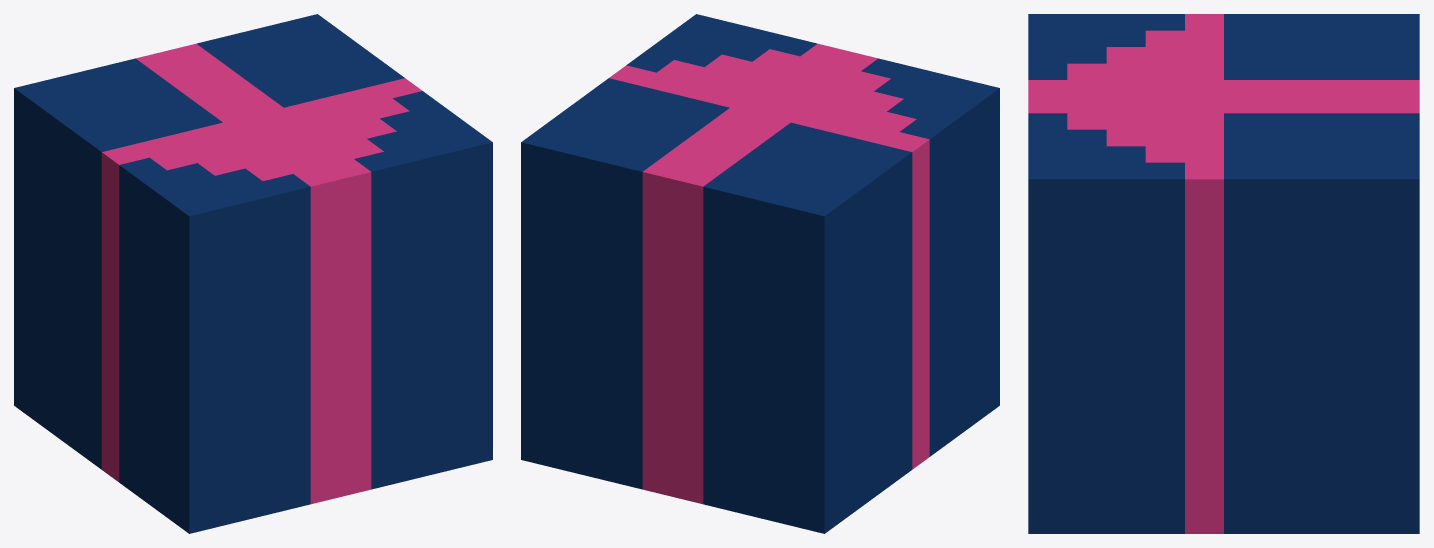
Rendered from miner.glb.
The picture shows the model from 3 angles, left to right: view 1: azimuth 30°, elevation 25°; view 2: azimuth 150°, elevation 25°; view 3: azimuth 270°, elevation 25°; orthographic projection. The views are drawn at different scales.
Visible parts, largest first — view 1: Untitled.001; view 2: Untitled.001; view 3: Untitled.001.
Boxes of the visible parts, box(x1,y1,x2,y2) form: Untitled.001: box(14, 14, 492, 533); Untitled.001: box(521, 14, 999, 533); Untitled.001: box(1028, 14, 1419, 533).
Size of the model in its own units: 1 by 1 by 1.
1 material, 1 textured.
